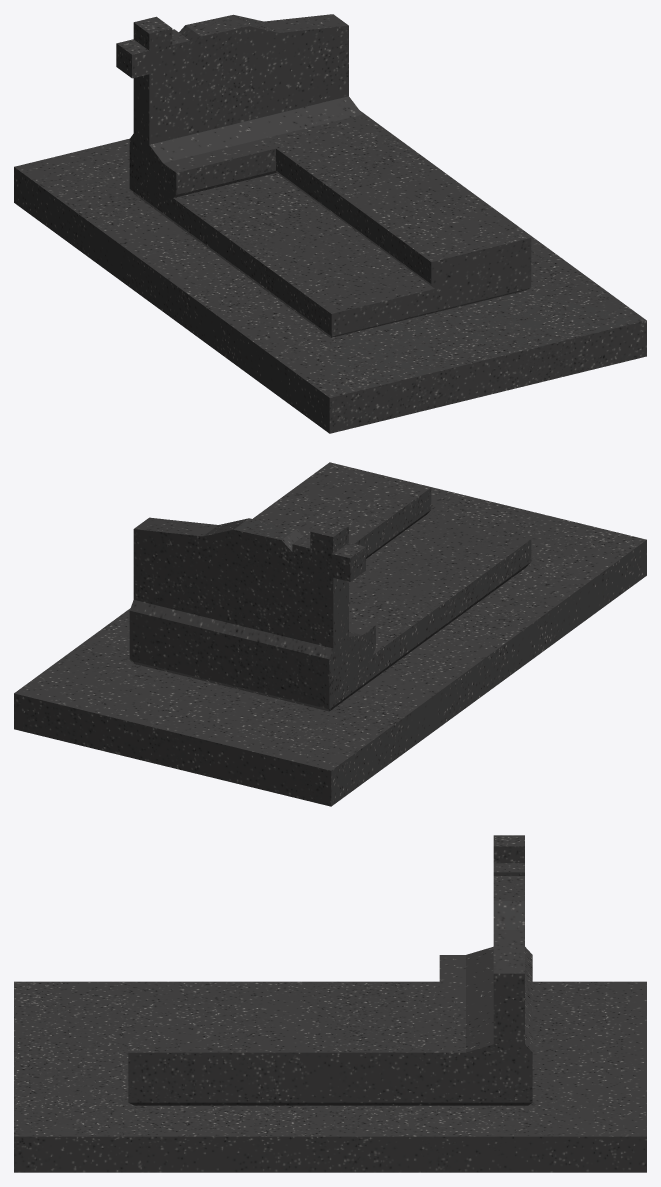
Rendered from Model_Grob_5.fbx.
3 views of the same model, one above another, from view 1: azimuth 30°, elevation 25°; view 2: azimuth 150°, elevation 25°; view 3: azimuth 270°, elevation 25° (orthographic).
Visible parts, largest first — view 1: Mesh_Grob_5; view 2: Mesh_Grob_5; view 3: Mesh_Grob_5.
Part boxes in pixels (x1,y1,x2,y2): Mesh_Grob_5: [14, 14, 646, 433]; Mesh_Grob_5: [14, 462, 646, 806]; Mesh_Grob_5: [14, 835, 646, 1172].
Bounding box in the file's own units: 408 × 150 × 236.
